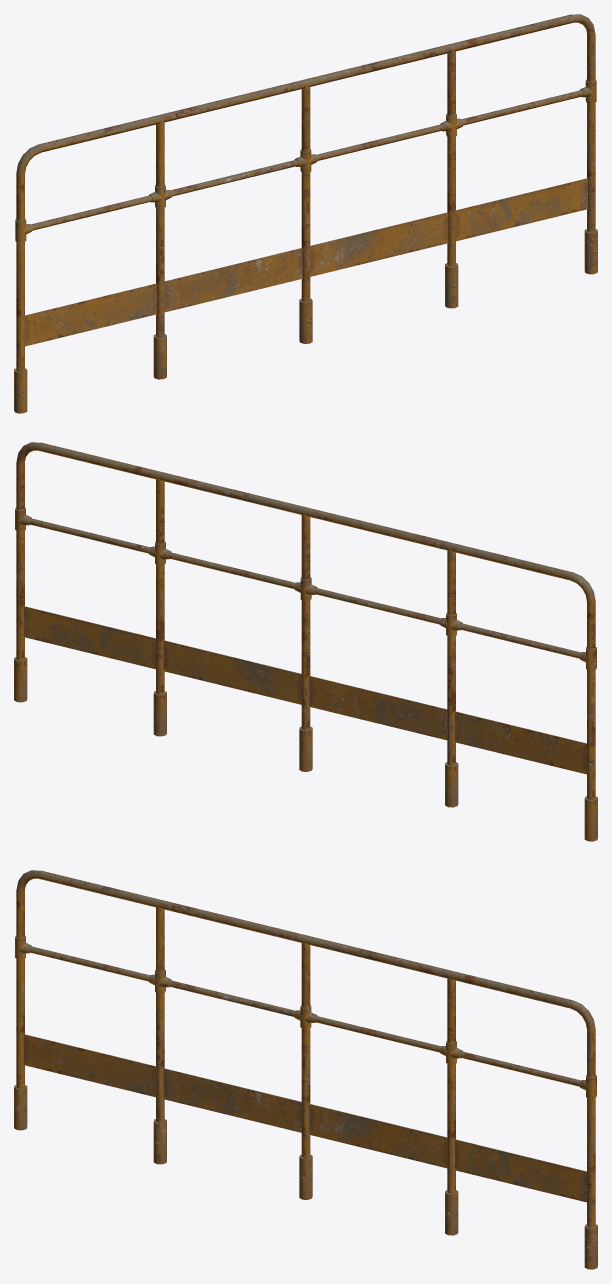
The model's file is Railing01a.fbx.
3 views of the same model, one above another, from view 1: azimuth 30°, elevation 25°; view 2: azimuth 150°, elevation 25°; view 3: azimuth 330°, elevation 25° (orthographic).
Parts seen in each view (by area): view 1: Railing01a_LOD0; view 2: Railing01a_LOD0; view 3: Railing01a_LOD0.
Part boxes in pixels (x1=…): Railing01a_LOD0: x1=14, y1=14, x2=597, y2=413; Railing01a_LOD0: x1=14, y1=442, x2=597, y2=841; Railing01a_LOD0: x1=14, y1=870, x2=597, y2=1269.
Size of what is drawn, in the model's own units: 300 by 129 by 6.66.
